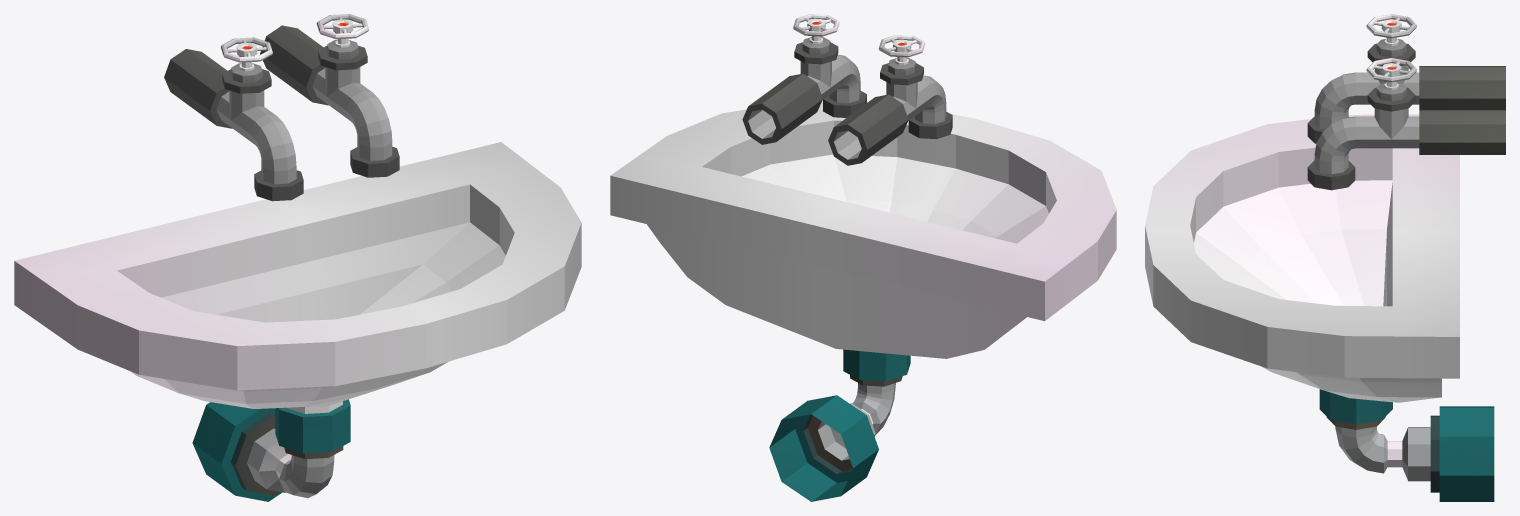
The model's file is Washbasin.fbx.
3 views of the same model, side by side, from view 1: azimuth 30°, elevation 25°; view 2: azimuth 150°, elevation 25°; view 3: azimuth 270°, elevation 25° (orthographic). The views are drawn at different scales.
Parts seen in each view (by area): view 1: Washbasin; view 2: Washbasin; view 3: Washbasin.
Part boxes in pixels (x1,y1,x2,y2): Washbasin: (14,14,581,501); Washbasin: (610,14,1116,501); Washbasin: (1145,14,1505,501).
Size of the model in its own units: 66.83 by 63.64 by 45.71.
